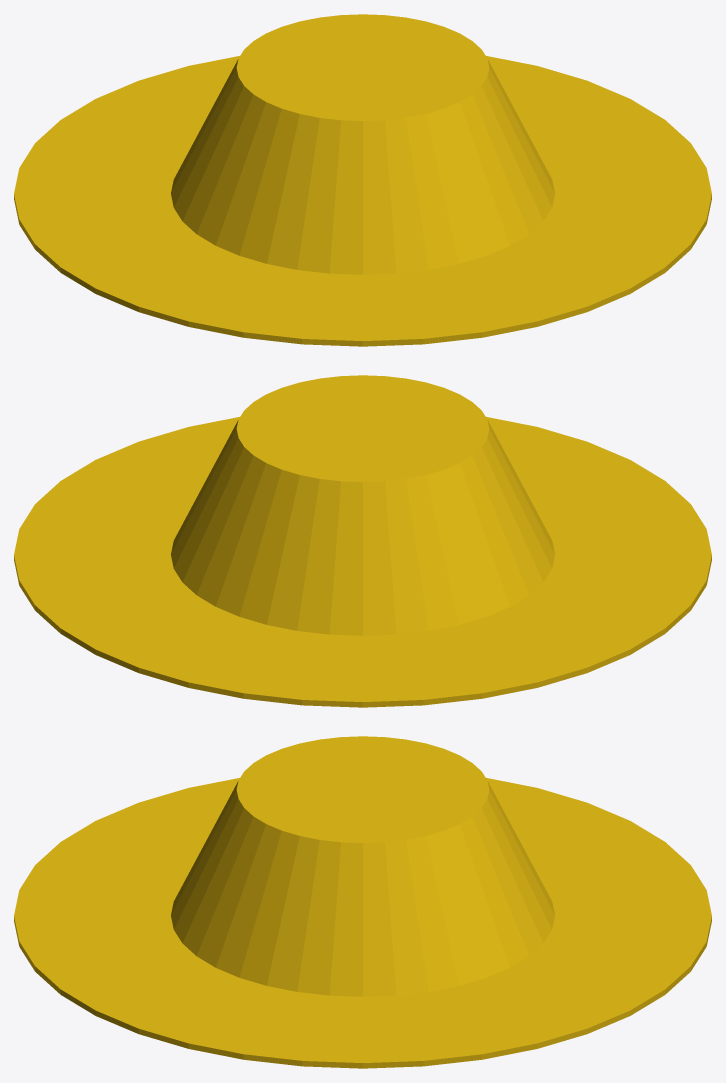
File: farmers hat.fbx
The picture shows the model from 3 angles, top to bottom: view 1: azimuth 30°, elevation 25°; view 2: azimuth 150°, elevation 25°; view 3: azimuth 270°, elevation 25°; orthographic projection.
Parts seen in each view (by area): view 1: Cylinder; view 2: Cylinder; view 3: Cylinder.
Part boxes in pixels (bbox=[...]): Cylinder: bbox=[14, 14, 711, 346]; Cylinder: bbox=[14, 375, 711, 707]; Cylinder: bbox=[14, 736, 711, 1068].
Size of the model in its own units: 314 by 65.35 by 314.
